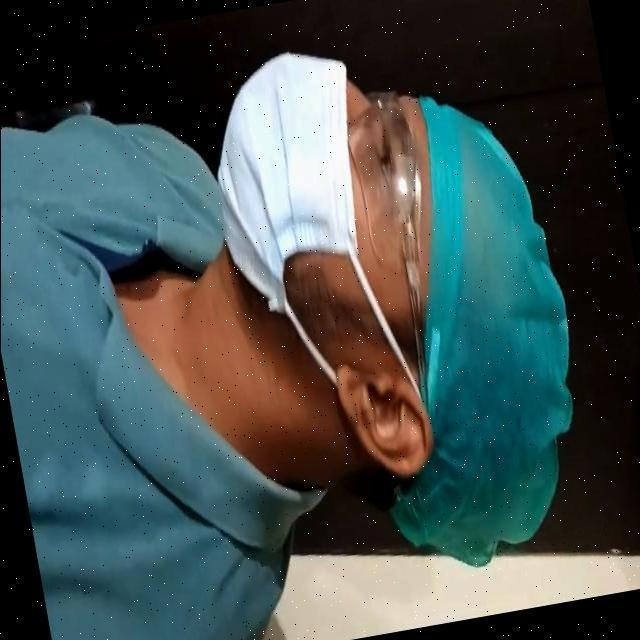gloves: (392, 108, 596, 530)
mask: (189, 52, 384, 270)
